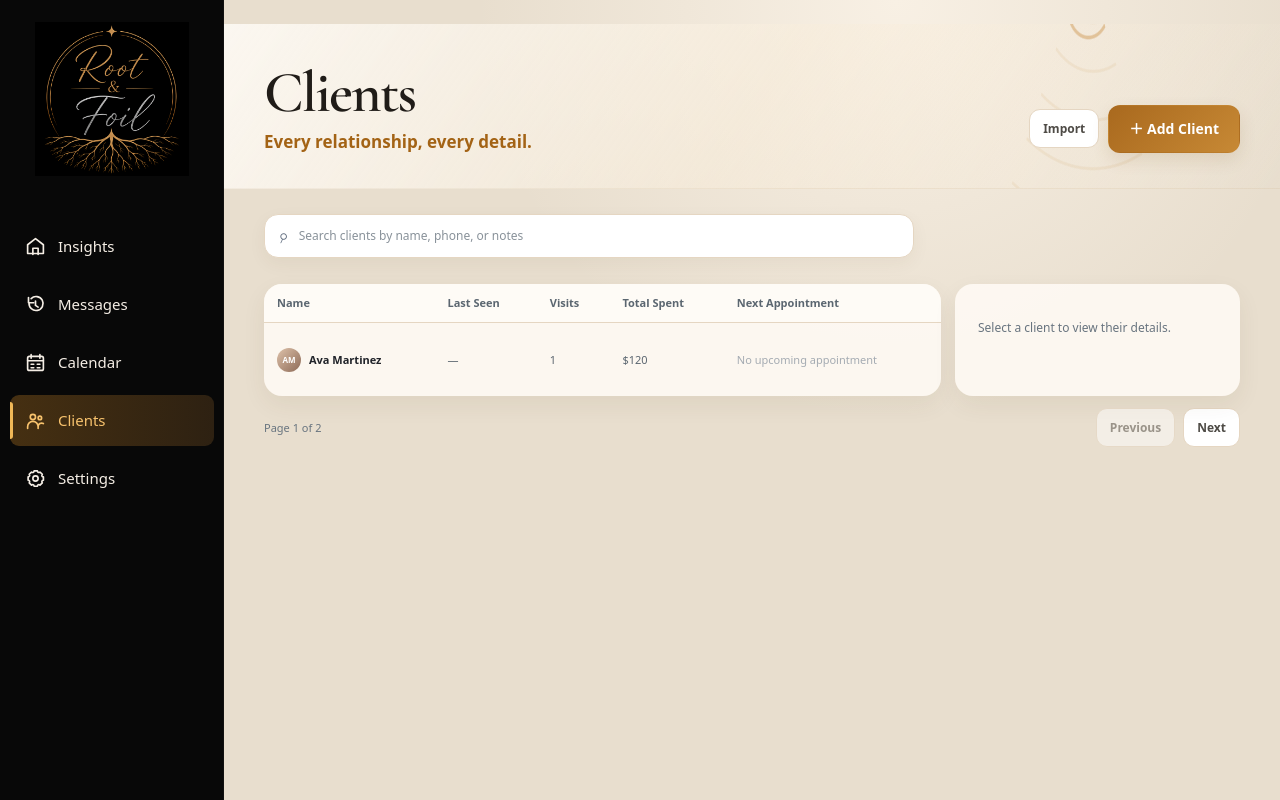
Scenario: ClientsScreenClient › moves through pagination without allowing navigation before page one
This screenshot has width=1280, height=800.
expect the button "Previous" is disabled: met, box [1096, 408, 1175, 447]
What coordinates should you click on to do the following:
click the button "Next"
I would click on:
 (1212, 428)
Its box is [1183, 408, 1240, 447].
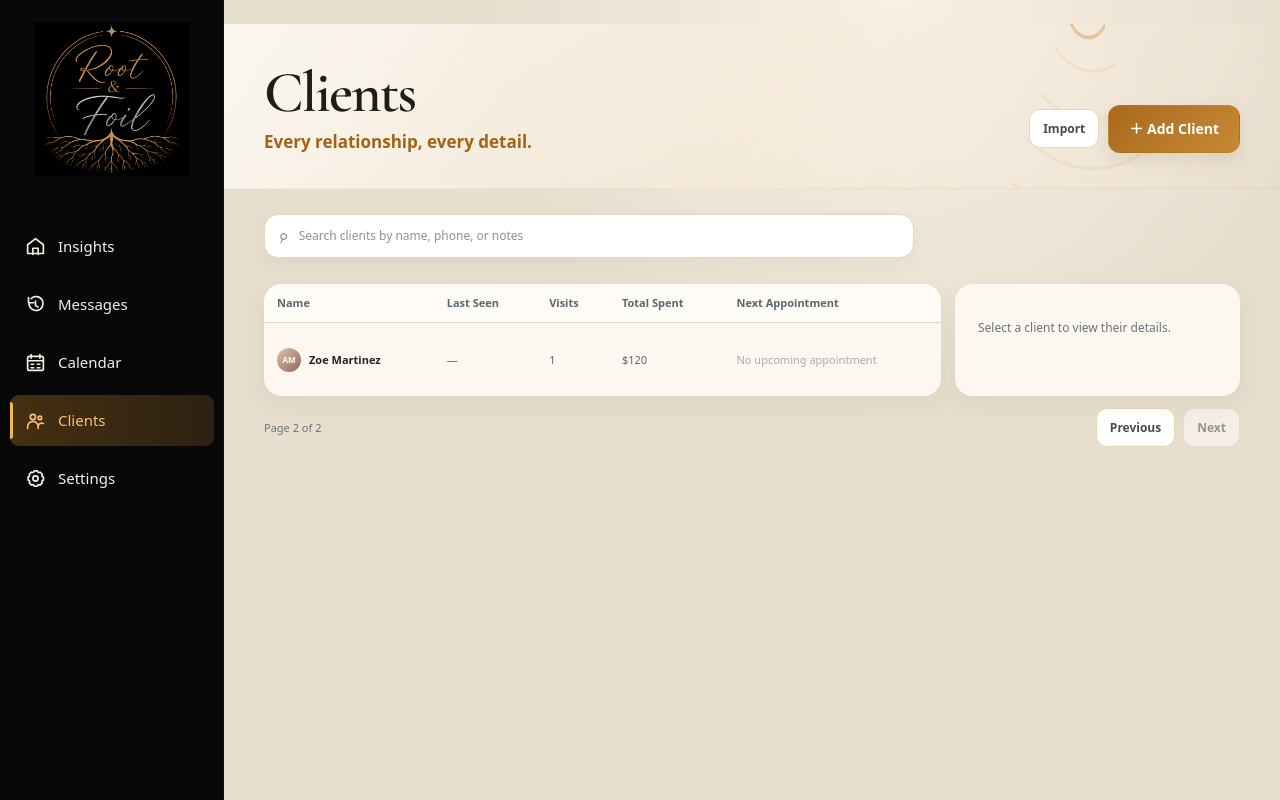
expect the text "Page 2 of 2" is shown: met, box [264, 420, 321, 436]
expect the button "Next" is disabled: met, box [1183, 408, 1240, 447]
